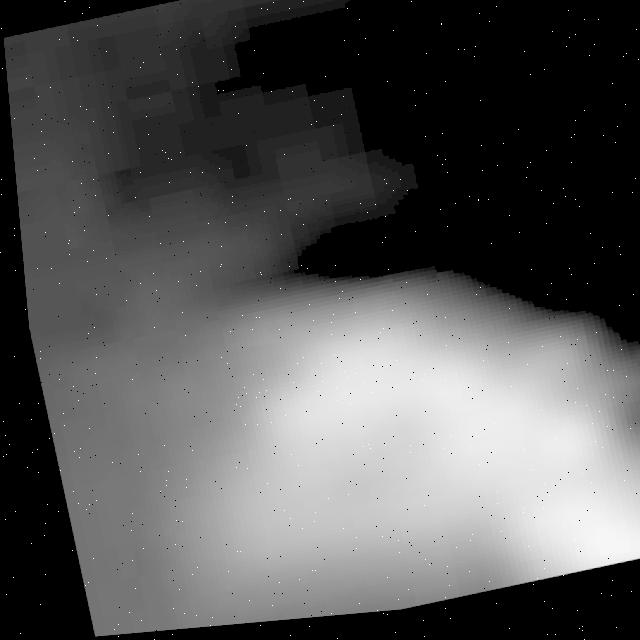person: (71, 229, 640, 637)
